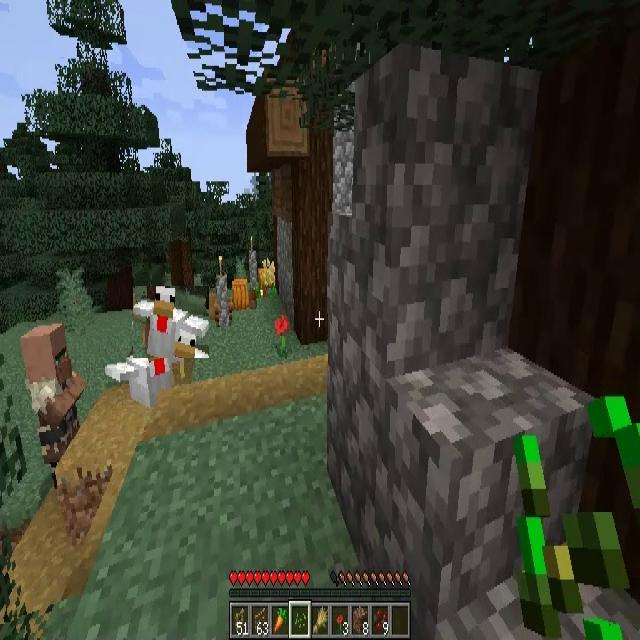duck: (133, 286, 209, 358), (106, 330, 170, 404)
